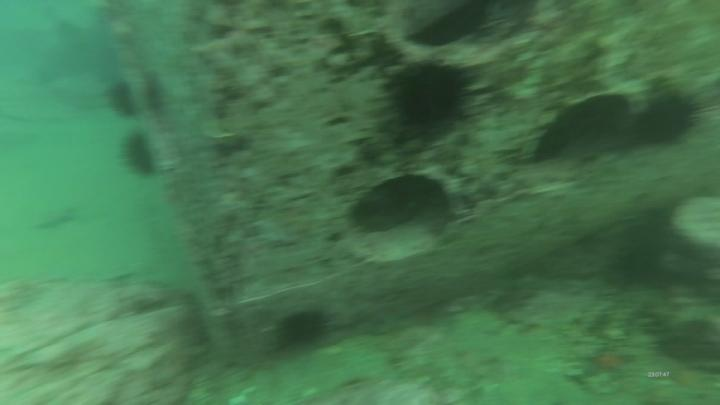echinus: (383, 58, 469, 148), (636, 81, 698, 154), (121, 131, 163, 179), (107, 79, 140, 121)
starfish: (581, 341, 636, 383)
